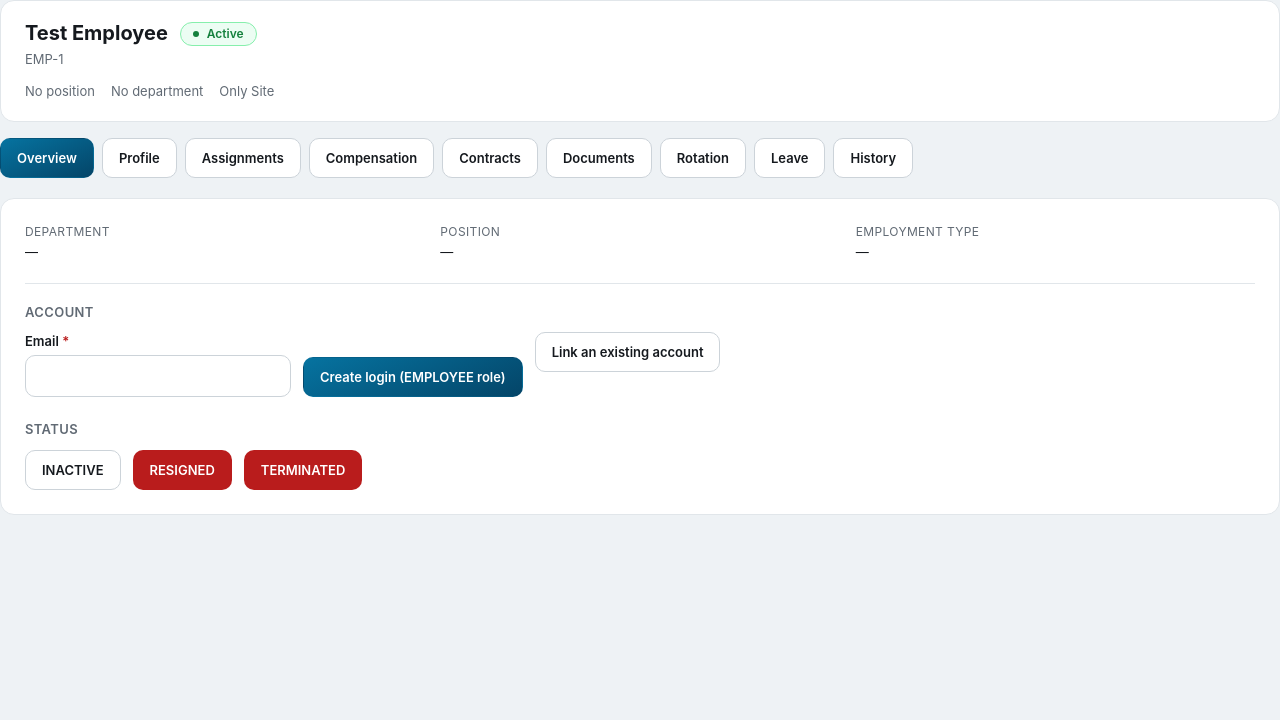
Test: EmployeeDetailPage status transitions (PASS1-R02) › TERMINATED requires a non-empty reason before submitting
The image size is (1280, 720).
Expected: the heading "Test Employee" is shown, left=25, top=21, right=168, bottom=46
Click the button "TERMINATED": (303, 470) left=244, top=450, right=362, bottom=490
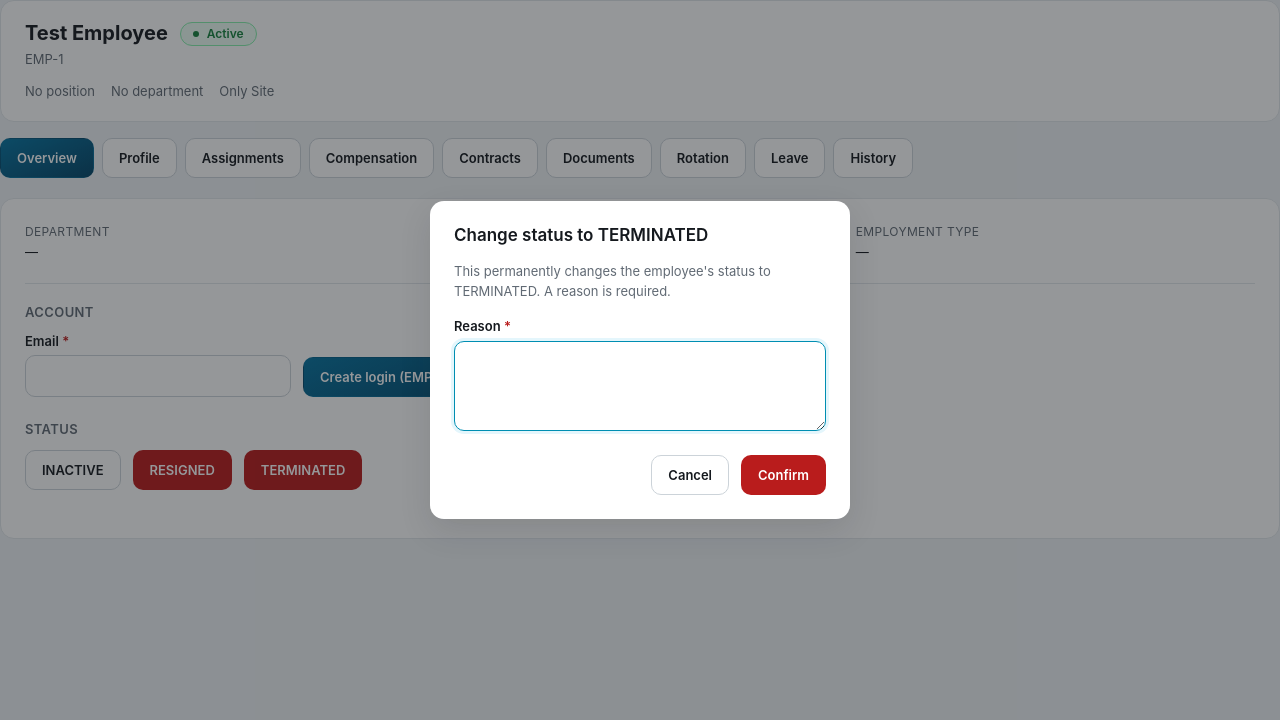
Click the button "Confirm": (784, 475) left=741, top=455, right=826, bottom=495
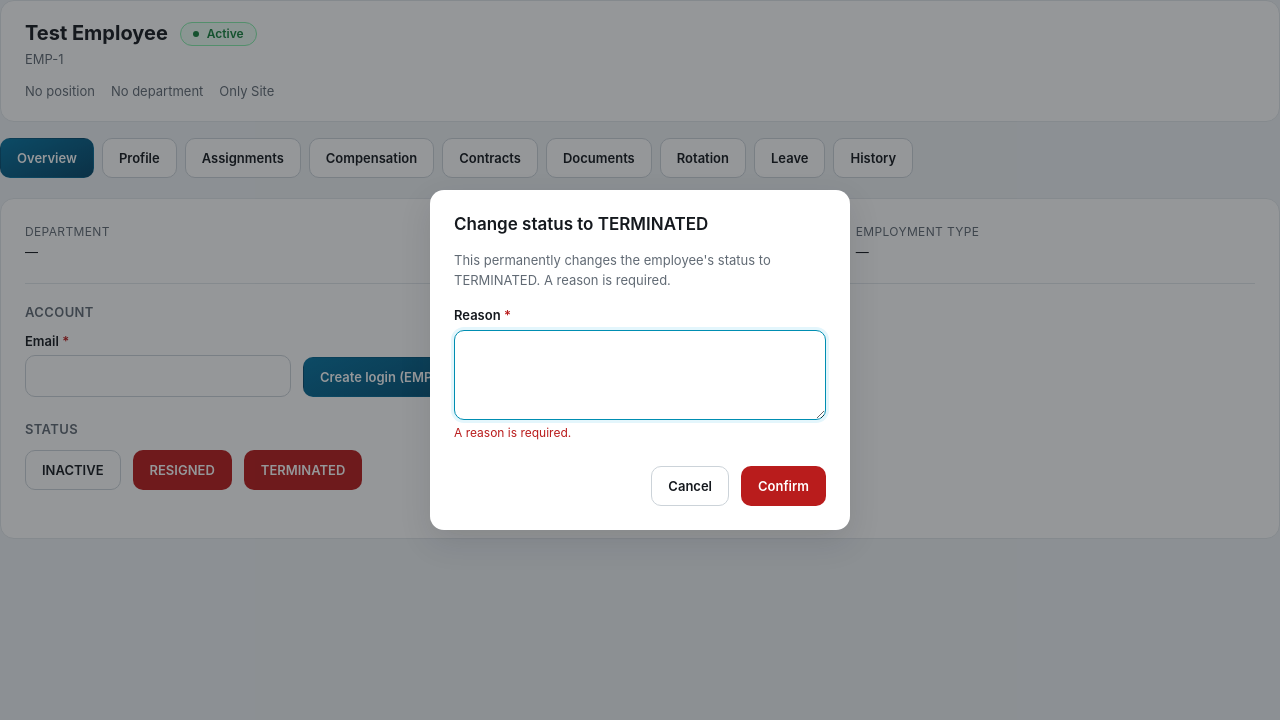
Expected: the text "A reason is required." is shown, left=454, top=425, right=571, bottom=440
